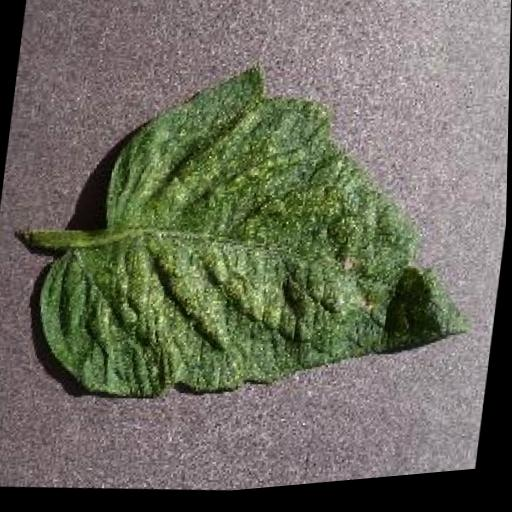Spider Mites: (27, 32, 504, 447)
